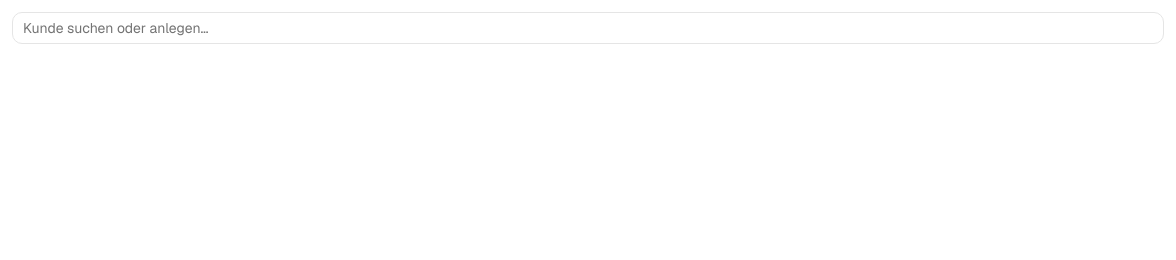
Test: KundenSelect › zeigt maximal 5 Einträge, der letzte ist Kunde anlegen
Press the mouse on the dropdown at (588, 28), box 12,12 -> 1164,44
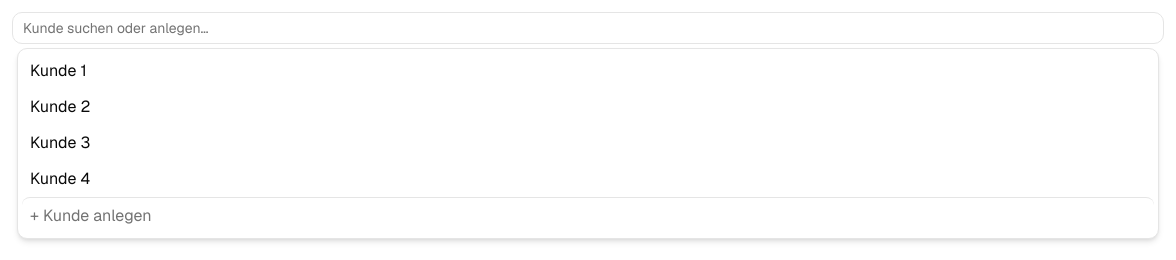
Expected: the number of options is 5, 30,60 -> 86,81; 30,96 -> 90,117; 30,132 -> 90,153; 30,168 -> 90,189; 22,197 -> 1154,234
Expected: the option "+ Kunde anlegen" is shown, 22,197 -> 1154,234
